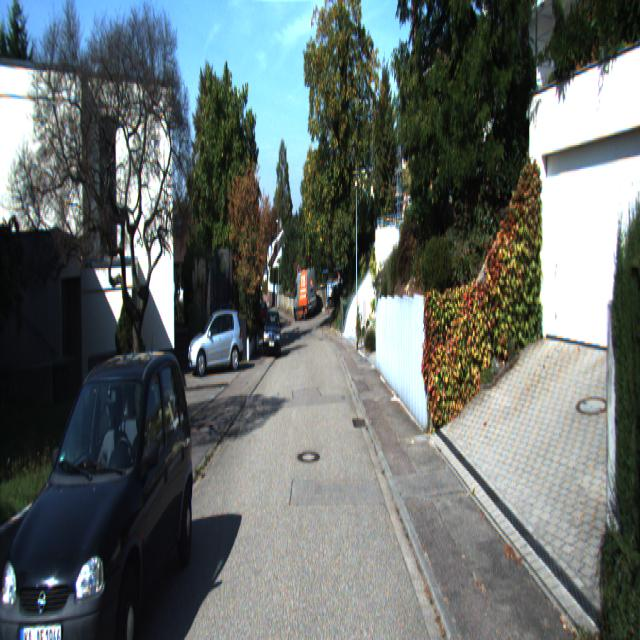Car: (0, 345, 197, 638), (188, 308, 245, 378), (293, 269, 317, 322), (263, 310, 282, 358)
